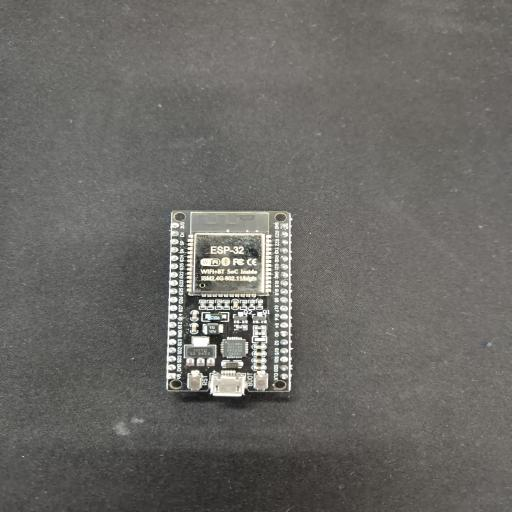esp32-dev: (166, 210, 292, 397)
